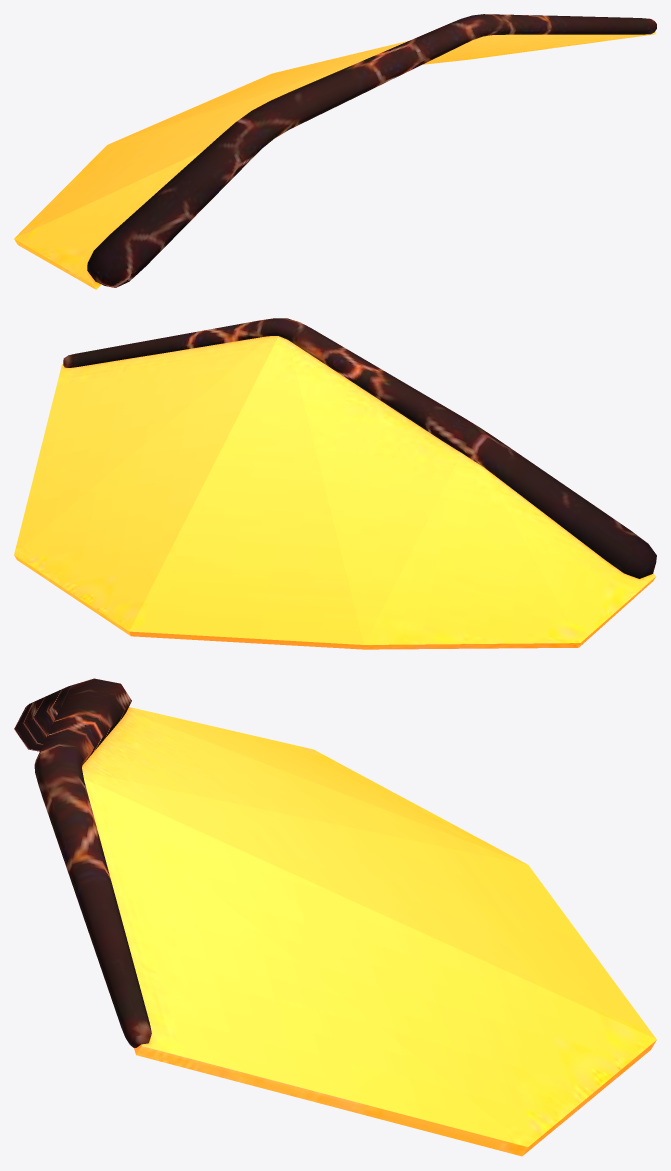
File: u_drakewingL_x_g.glb
The picture shows the model from 3 angles, top to bottom: view 1: azimuth 30°, elevation 25°; view 2: azimuth 150°, elevation 25°; view 3: azimuth 270°, elevation 25°; orthographic projection. The views are drawn at different scales.
Visible parts, largest first — view 1: u_drakewingL_x; view 2: u_drakewingL_x; view 3: u_drakewingL_x.
Part boxes in pixels (x1,y1,x2,y2): u_drakewingL_x: [14, 14, 656, 289]; u_drakewingL_x: [14, 318, 656, 649]; u_drakewingL_x: [14, 678, 656, 1156].
Bounding box in the file's own units: 2.6 × 0.8023 × 1.5.
1 material, 1 textured.
